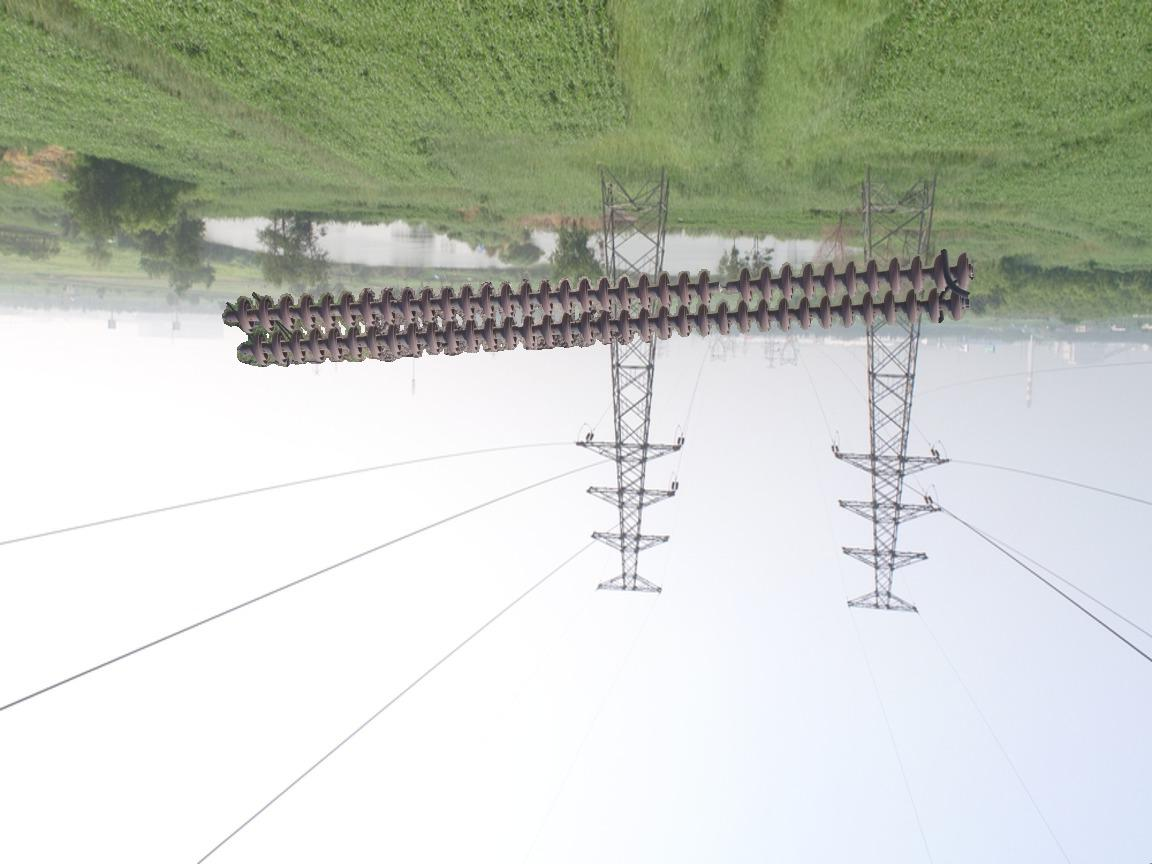insulator: (221, 243, 980, 374)
insulator_stringdrop: (695, 265, 755, 308)
